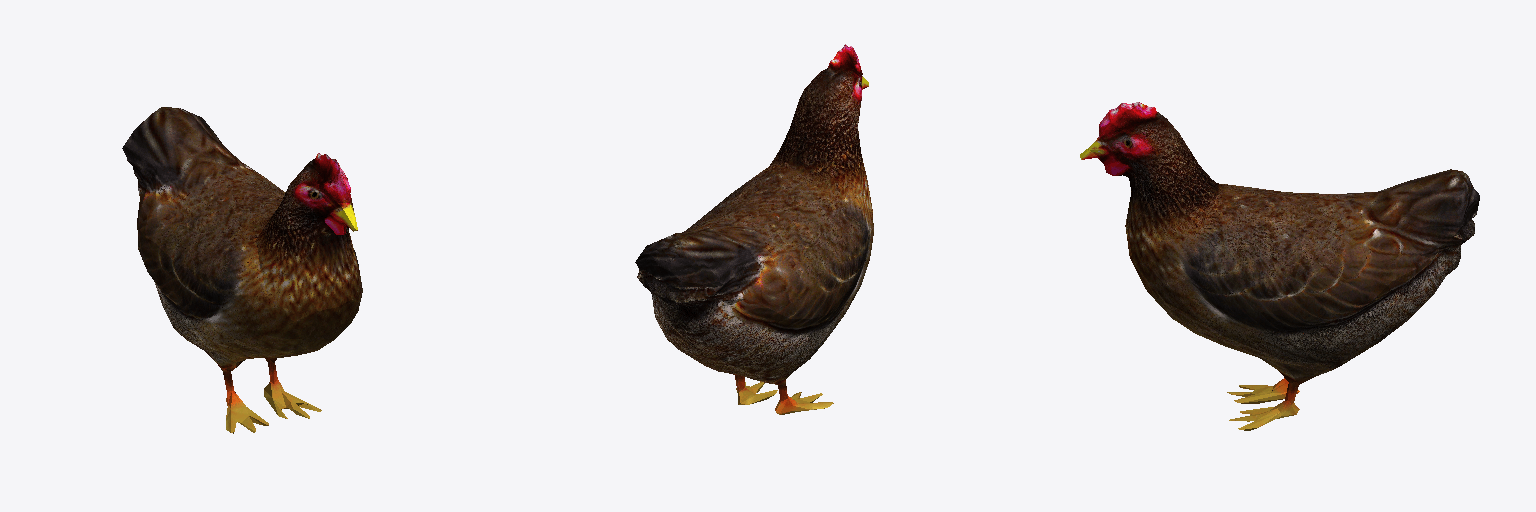
The picture shows the model from 3 angles: view 1: azimuth 30°, elevation 25°; view 2: azimuth 150°, elevation 25°; view 3: azimuth 270°, elevation 25°; orthographic projection.
Visible parts, largest first — view 1: Hen_Low_Poly; view 2: Hen_Low_Poly; view 3: Hen_Low_Poly.
Boxes of the visible parts, x1,y1,x2,y2 form: Hen_Low_Poly: [122, 107, 362, 433]; Hen_Low_Poly: [635, 44, 873, 414]; Hen_Low_Poly: [1080, 102, 1479, 430].
Size of the model in its own units: 0.2084 by 0.3922 by 0.4624.
Materials: 1 (1 with a texture image).